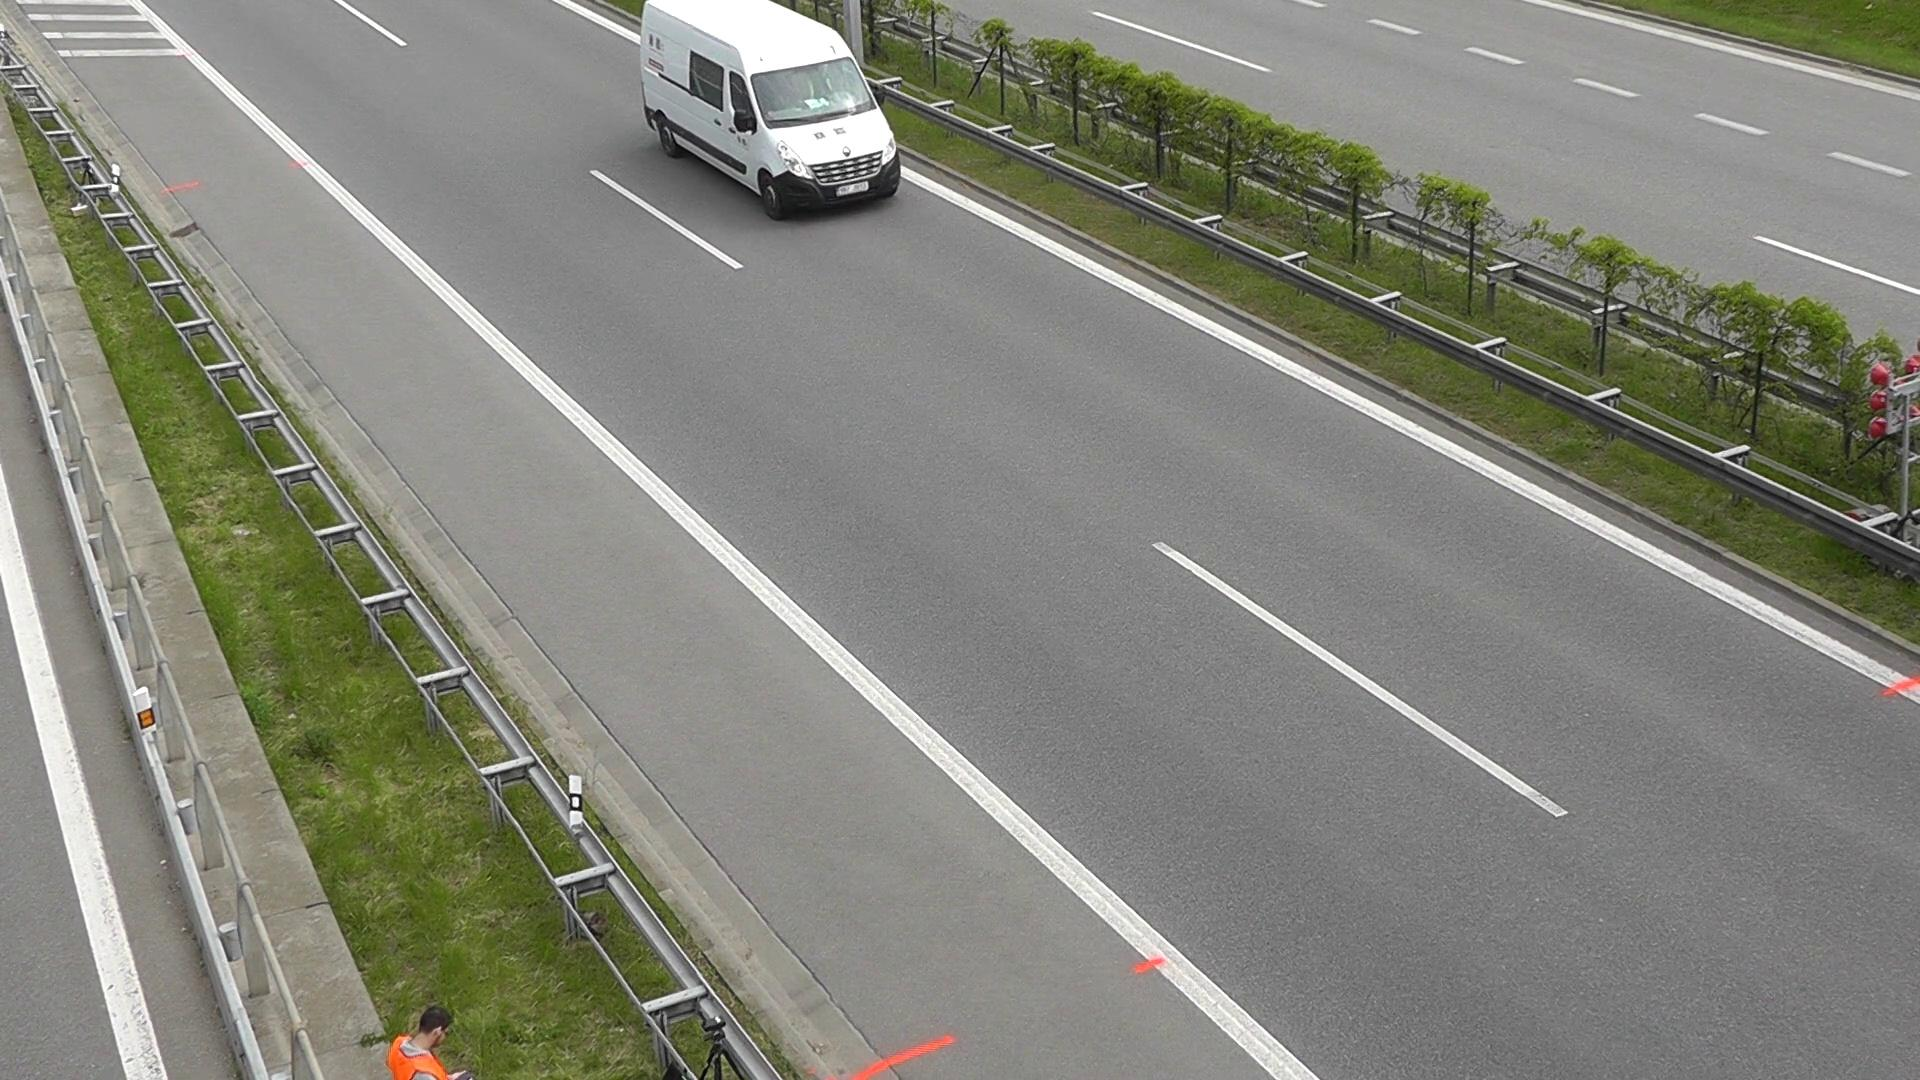Human: (366, 989, 464, 1078)
Pedestrian: (27, 319, 478, 744), (176, 749, 682, 1066)
Van: (628, 0, 920, 238)
